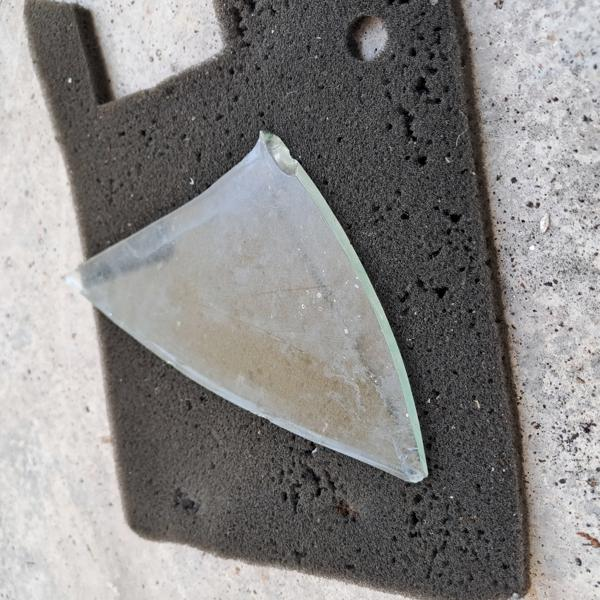Anorganik: (58, 130, 443, 493)
